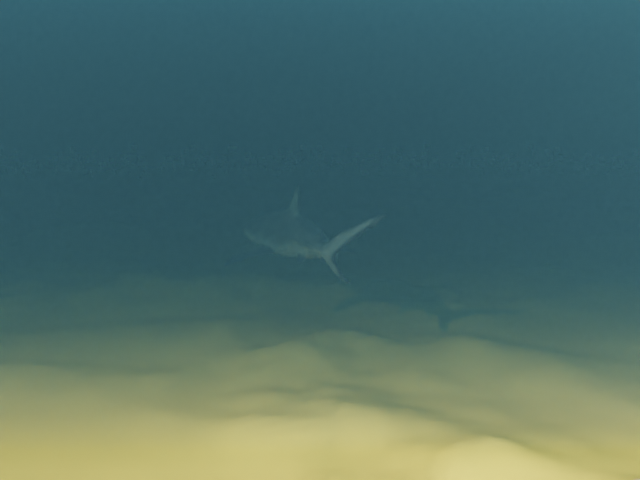Carribean Shark.001: (223, 185, 385, 284)
